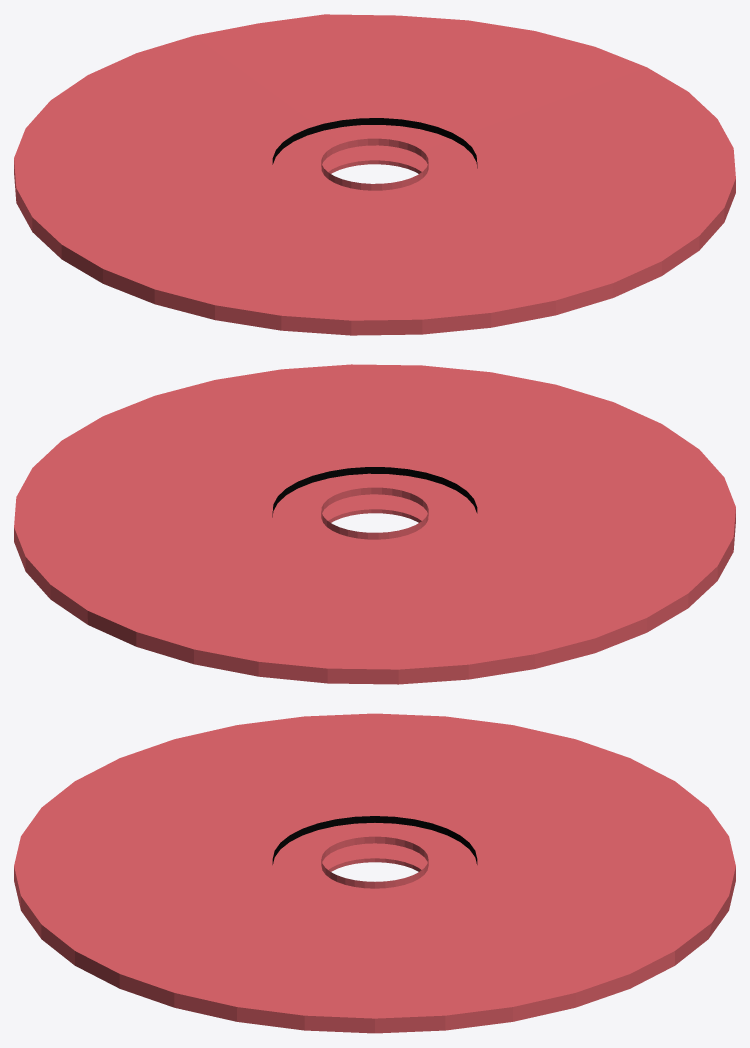
3 renders of one model, top to bottom at view 1: azimuth 30°, elevation 25°; view 2: azimuth 150°, elevation 25°; view 3: azimuth 270°, elevation 25°, orthographic.
Parts seen in each view (by area): view 1: Cylinder.003; view 2: Cylinder.003; view 3: Cylinder.003.
Boxes of the visible parts, x1,y1,x2,y2 form: Cylinder.003: [14, 14, 735, 335]; Cylinder.003: [14, 364, 735, 684]; Cylinder.003: [14, 713, 735, 1033].
Bounding box in the file's own units: 449 × 17.59 × 449.
